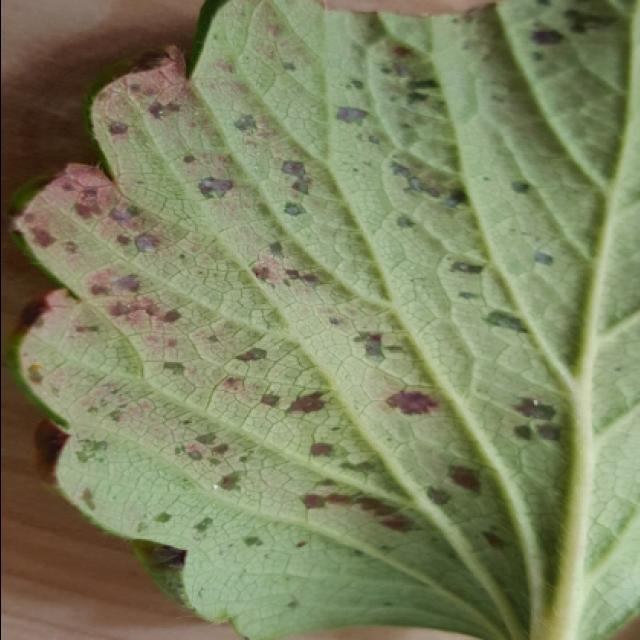Angular Leafspot: (3, 0, 624, 638)
